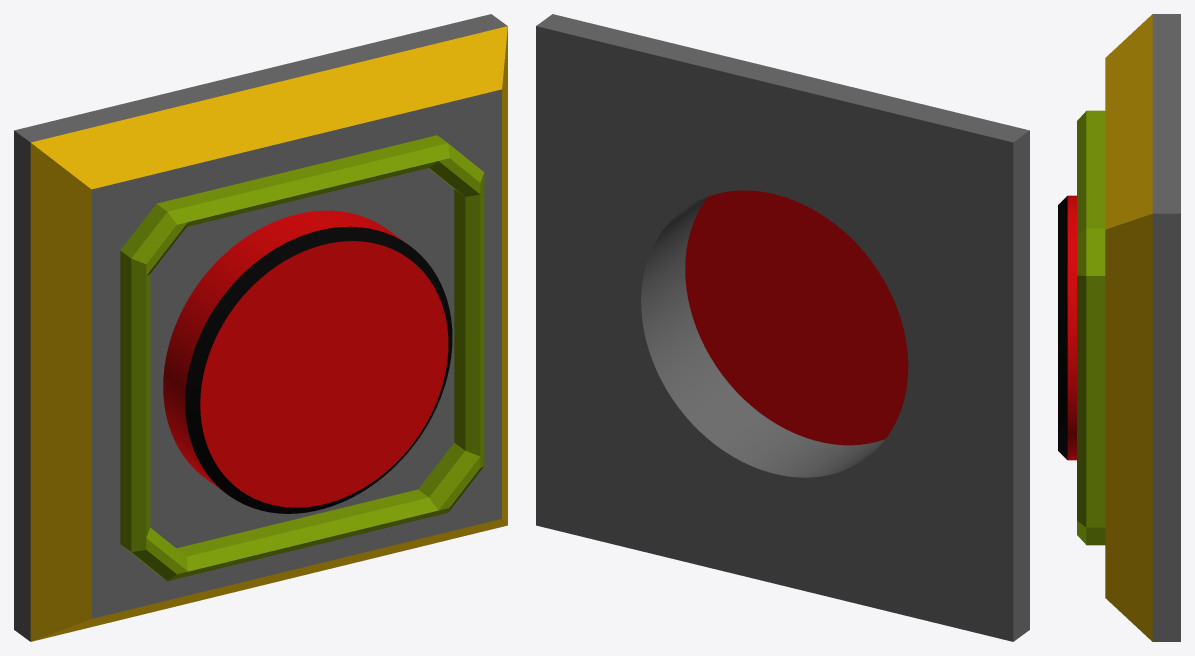
File: Red Button.obj
3 renders of one model, left to right at view 1: azimuth 30°, elevation 25°; view 2: azimuth 150°, elevation 25°; view 3: azimuth 270°, elevation 25°, orthographic. The views are drawn at different scales.
Parts seen in each view (by area): view 1: Body_01, Body_03, Body_02; view 2: Body_01, Body_03; view 3: Body_01, Body_02, Body_03.
Boxes of the visible parts, x1,y1,x2,y2 form: Body_01: [14, 14, 507, 641]; Body_03: [163, 210, 452, 513]; Body_02: [120, 135, 484, 581]; Body_01: [536, 14, 1029, 641]; Body_03: [685, 190, 908, 445]; Body_01: [1105, 14, 1180, 641]; Body_02: [1077, 110, 1105, 545]; Body_03: [1058, 195, 1076, 460].
Bounding box in the file's own units: 0.05 × 0.05 × 0.013.
